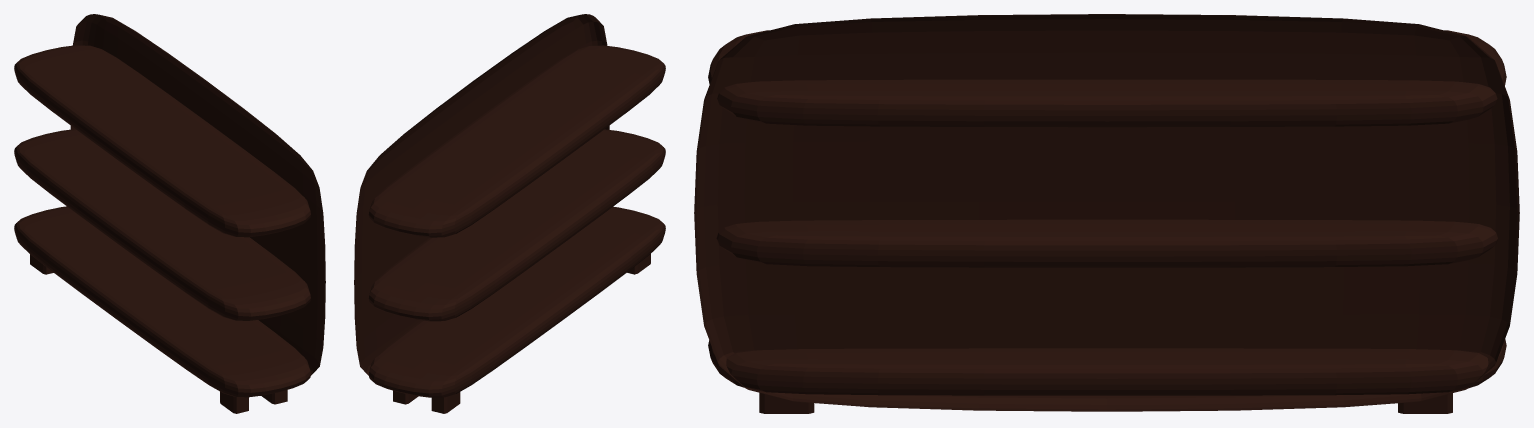
The model's file is shelf.fbx.
The picture shows the model from 3 angles, left to right: view 1: azimuth 30°, elevation 25°; view 2: azimuth 150°, elevation 25°; view 3: azimuth 270°, elevation 25°; orthographic projection. The views are drawn at different scales.
Parts seen in each view (by area): view 1: Cube.008, Cube.007, Cube.004, Cube.005, Cube.006; view 2: Cube.008, Cube.007, Cube.004, Cube.005, Cube.001; view 3: Cube.005, Cube.008, Cube.007, Cube.004, Cube.002, Cube.003.
Part boxes in pixels (left/top/right/bottom): Cube.008: left=14, top=45, right=310, bottom=237; Cube.007: left=14, top=129, right=310, bottom=320; Cube.004: left=14, top=206, right=310, bottom=397; Cube.005: left=70, top=14, right=325, bottom=375; Cube.006: left=220, top=391, right=248, bottom=413; Cube.008: left=368, top=45, right=665, bottom=237; Cube.007: left=368, top=129, right=665, bottom=321; Cube.004: left=369, top=206, right=665, bottom=397; Cube.005: left=354, top=14, right=609, bottom=375; Cube.001: left=431, top=392, right=460, bottom=413; Cube.005: left=694, top=14, right=1519, bottom=411; Cube.008: left=708, top=30, right=1506, bottom=127; Cube.007: left=716, top=219, right=1497, bottom=267; Cube.004: left=708, top=339, right=1506, bottom=395; Cube.002: left=759, top=392, right=814, bottom=413; Cube.003: left=1398, top=393, right=1452, bottom=413.
Size of the model in its own units: 28.69 by 69.17 by 127.
